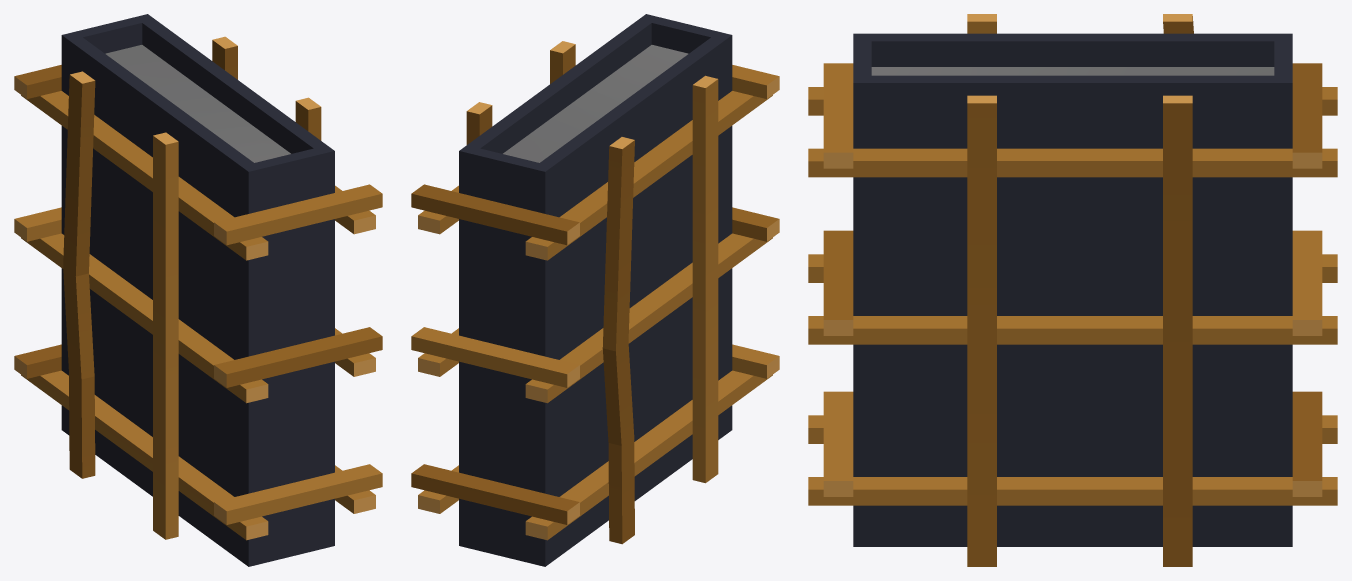
File: ConcrateFrame_1_2.obj
3 renders of one model, left to right at view 1: azimuth 30°, elevation 25°; view 2: azimuth 150°, elevation 25°; view 3: azimuth 270°, elevation 25°, orthographic. The views are drawn at different scales.
Parts seen in each view (by area): view 1: ConcrateFrame_1_2; view 2: ConcrateFrame_1_2; view 3: ConcrateFrame_1_2.
Boxes of the visible parts, left/top/right/bottom form: ConcrateFrame_1_2: left=14, top=14, right=382, bottom=566; ConcrateFrame_1_2: left=411, top=14, right=779, bottom=566; ConcrateFrame_1_2: left=808, top=14, right=1337, bottom=566.
Size of the model in its own units: 1.05 by 2.54 by 2.63.
